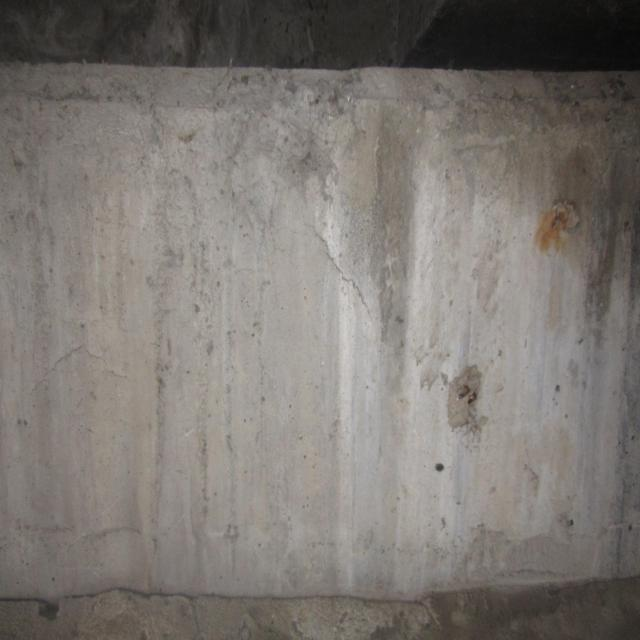Rebar: (446, 364, 491, 441)
concrete spalling: (212, 70, 363, 186)
diagonal crack: (299, 224, 372, 315), (26, 338, 103, 392)
